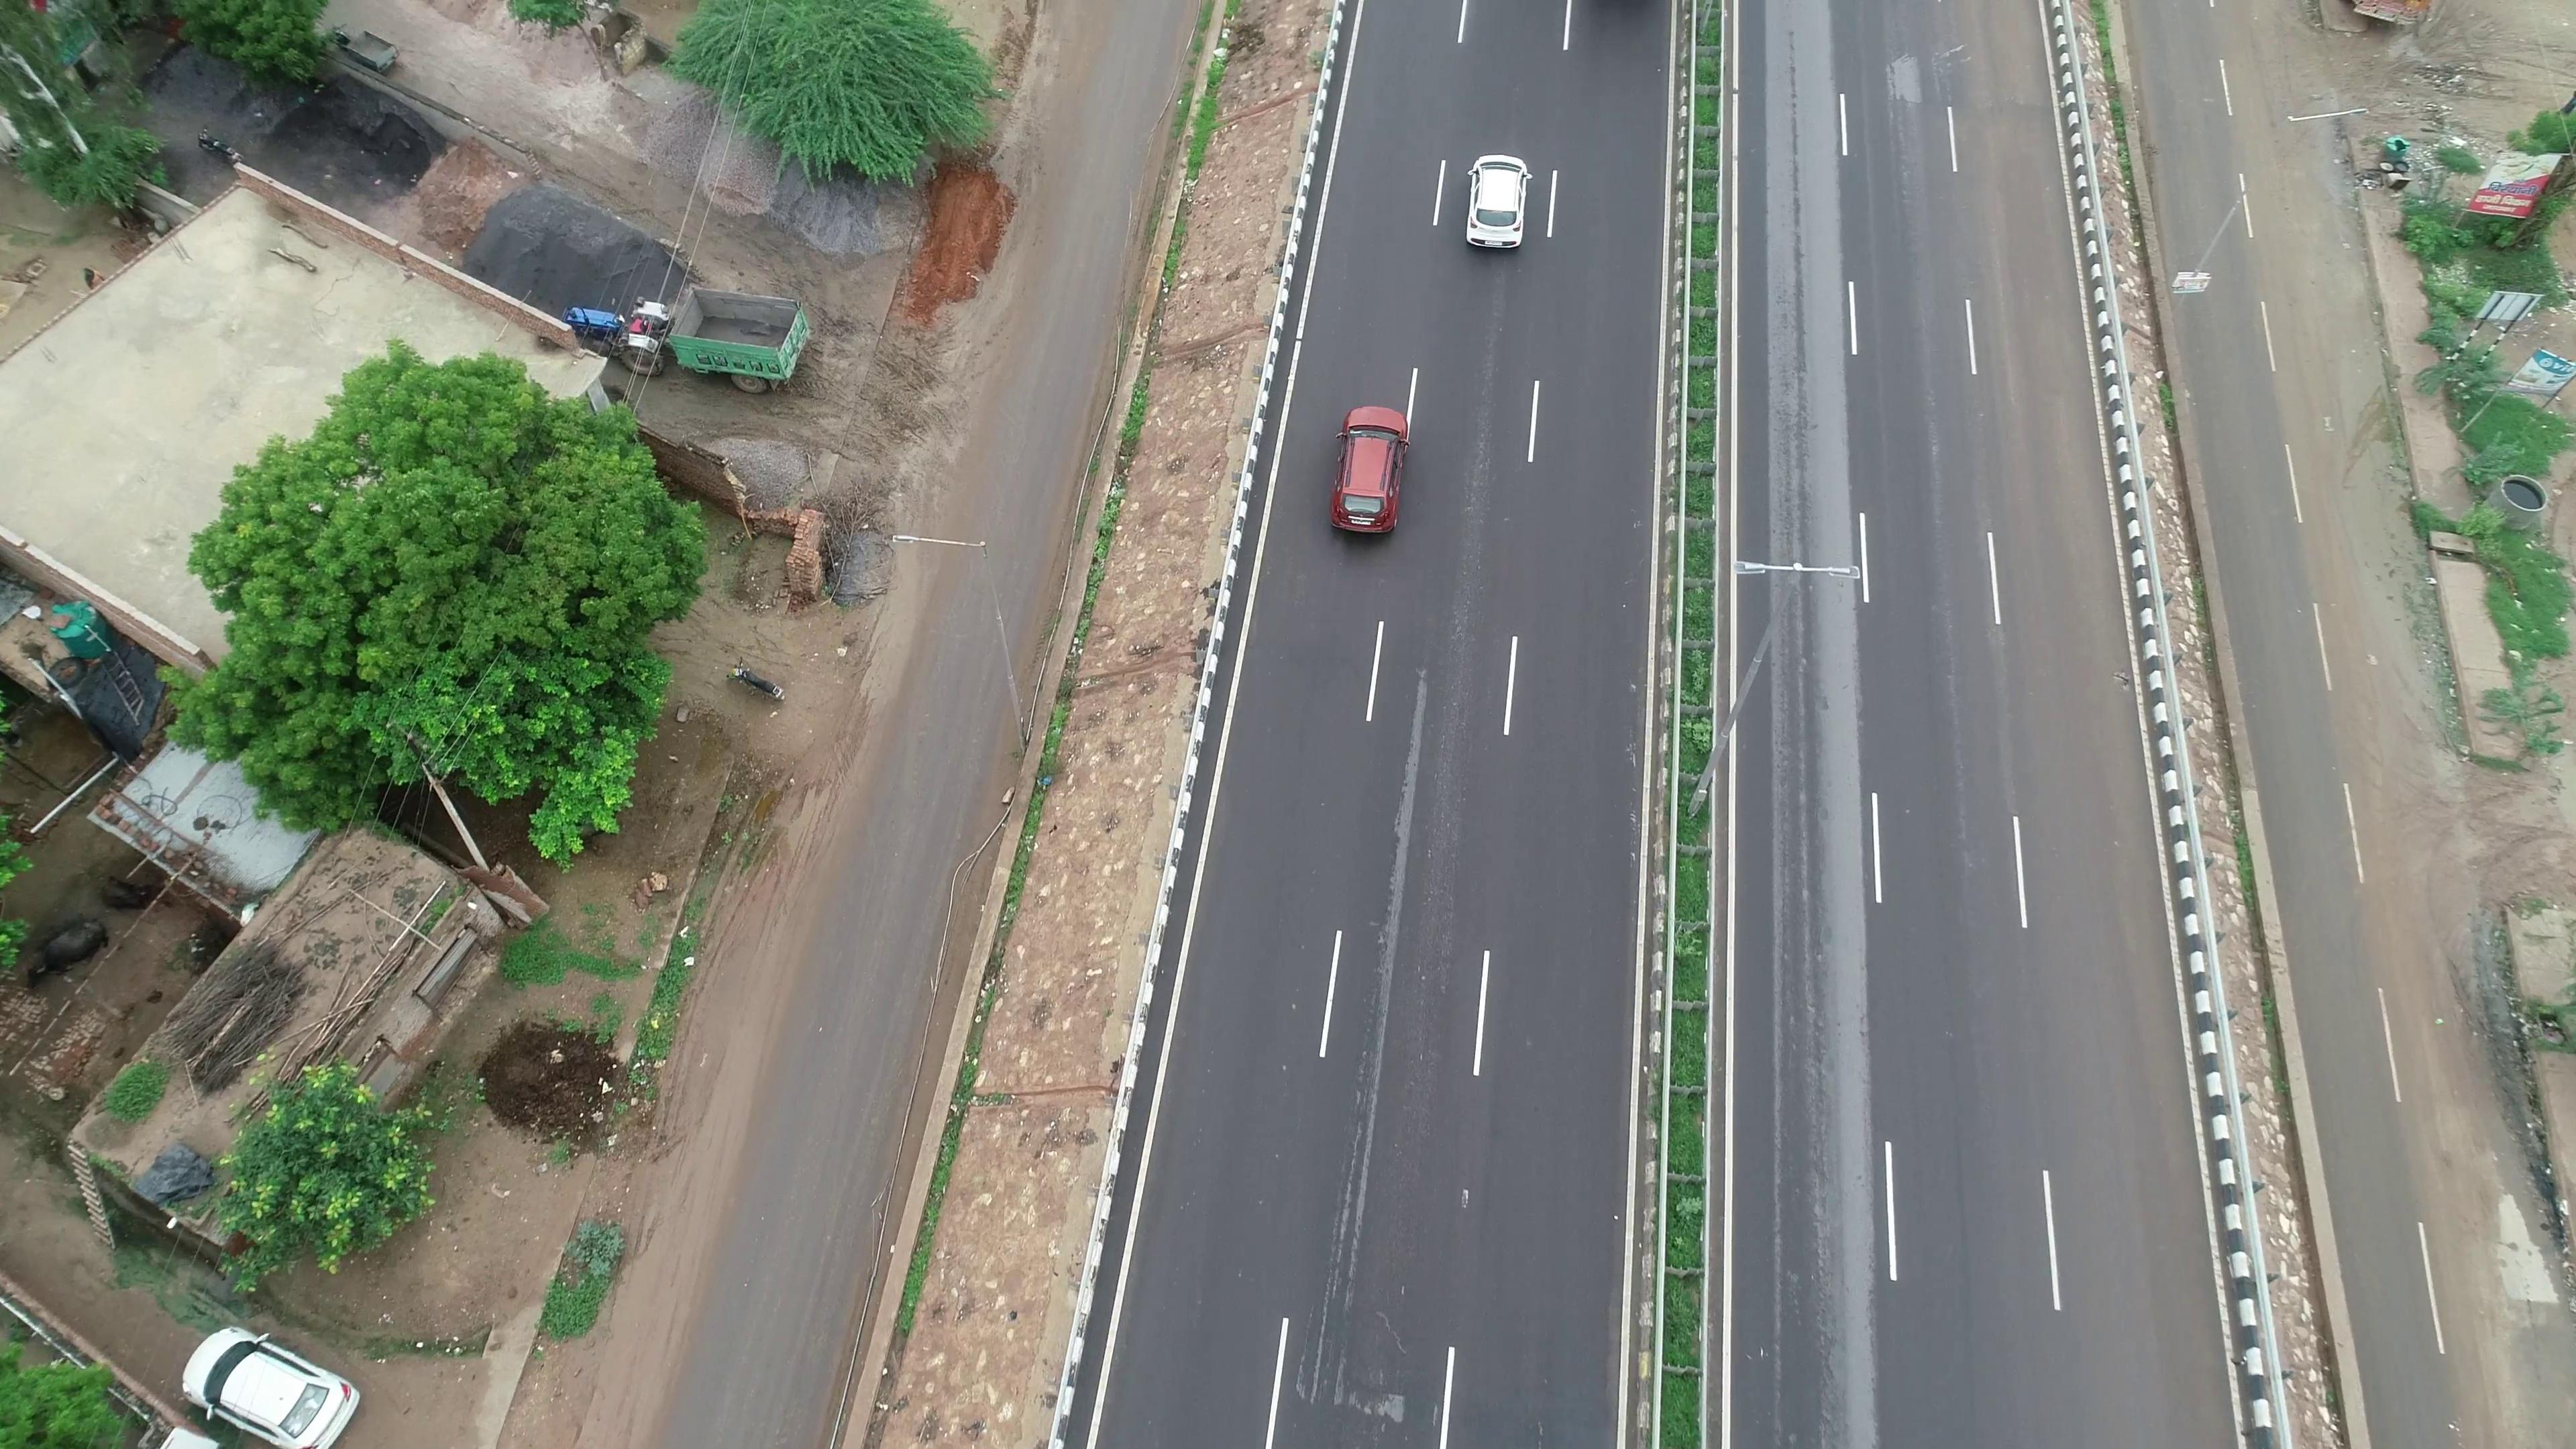Muddy_road: (2291, 366, 2450, 901), (1971, 177, 2107, 602)
